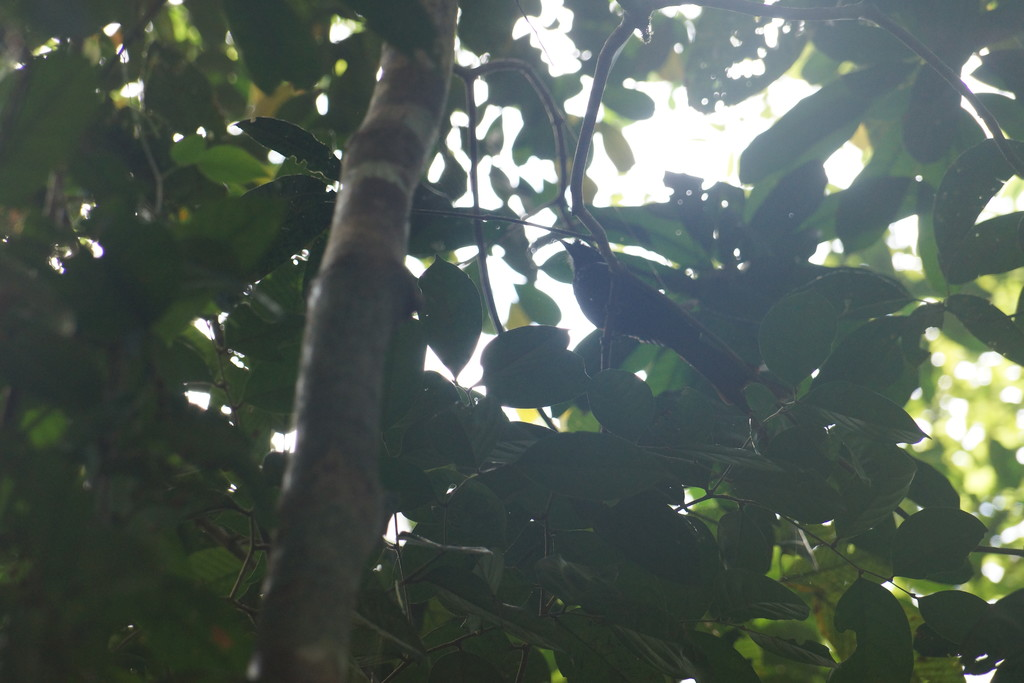Tree: (37, 0, 1001, 665)
